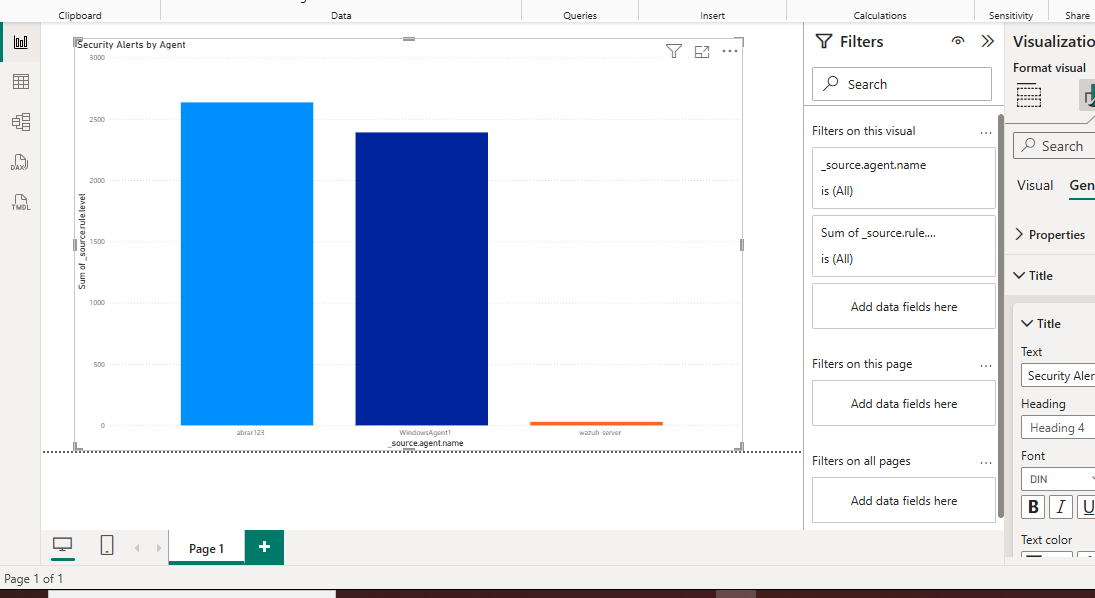

This screenshot's page, from the dashboard's own definition file:
{"tool":"powerbi","page":{"name":"Page 1","canvas":[1280,720],"ordinal":0},"visuals":[{"type":"clusteredColumnChart","title":"Security Alerts by Agent","fields":{"Category":["choose._source.agent.name"],"Y":["Sum(choose._source.rule.level)"]},"box":[55.4,26.9,1123.8,693.8],"z":1000}]}

Visuals, with their boxes on the page's 1280x720 design canvas (x1, y1, x2, y2). These are canvas units, not pixel positions in the 1095x598 screenshot, which may show the page scaled, cropped or inside an application window:
"Security Alerts by Agent" clusteredColumnChart: (left=55, top=27, right=1179, bottom=721)
